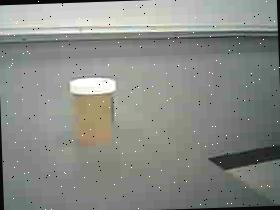Bottle B: (64, 66, 122, 154)
